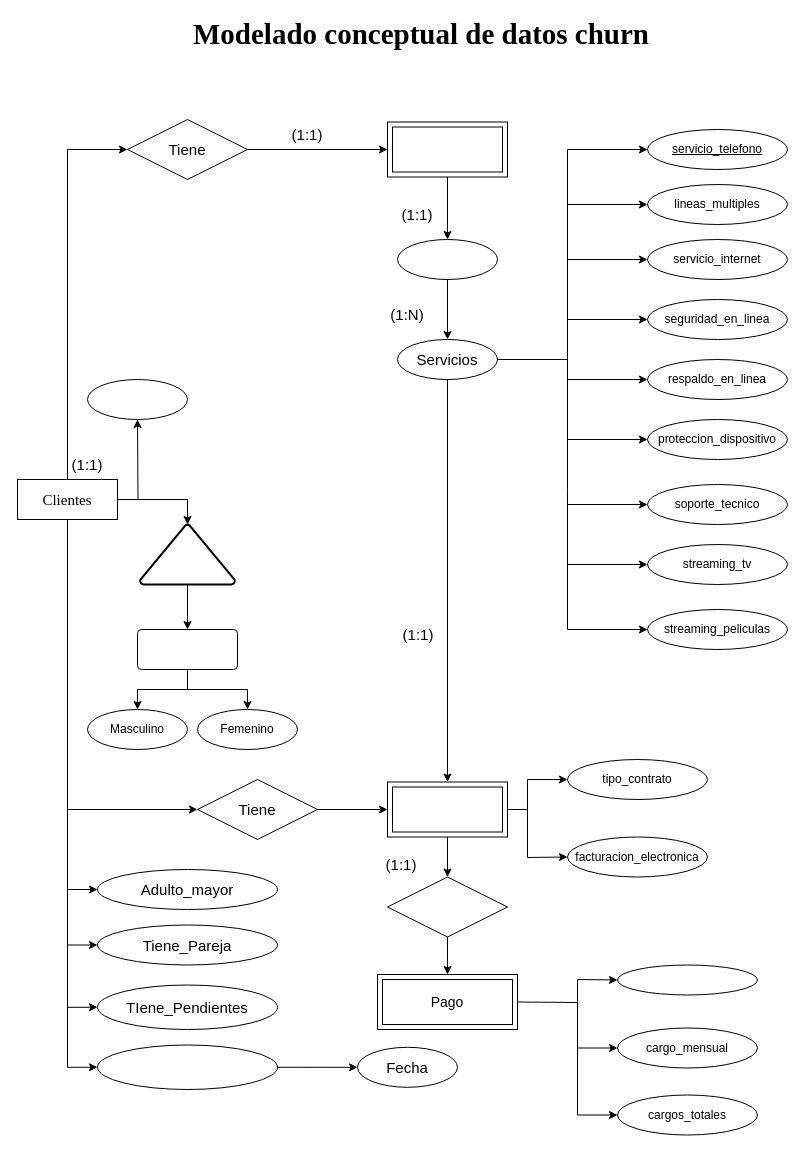
Some shapes in this 805 by 1153 pixel diagram are drawn without their labels. The shapes that lost their labels are listed below. From the top down, each one's centre as x and y in pixels, then its label:
At (x=447, y=149): "Servicio".
At (x=447, y=259): "id_servicio".
At (x=137, y=399): "Codigo Cliente".
At (x=187, y=554): "ID".
At (x=187, y=649): "Genero".
At (x=447, y=809): "Contrato".
At (x=447, y=906): "Realiza".
At (x=687, y=979): "metodo_pago".
At (x=187, y=1067): "Antiguedad_Meses".
